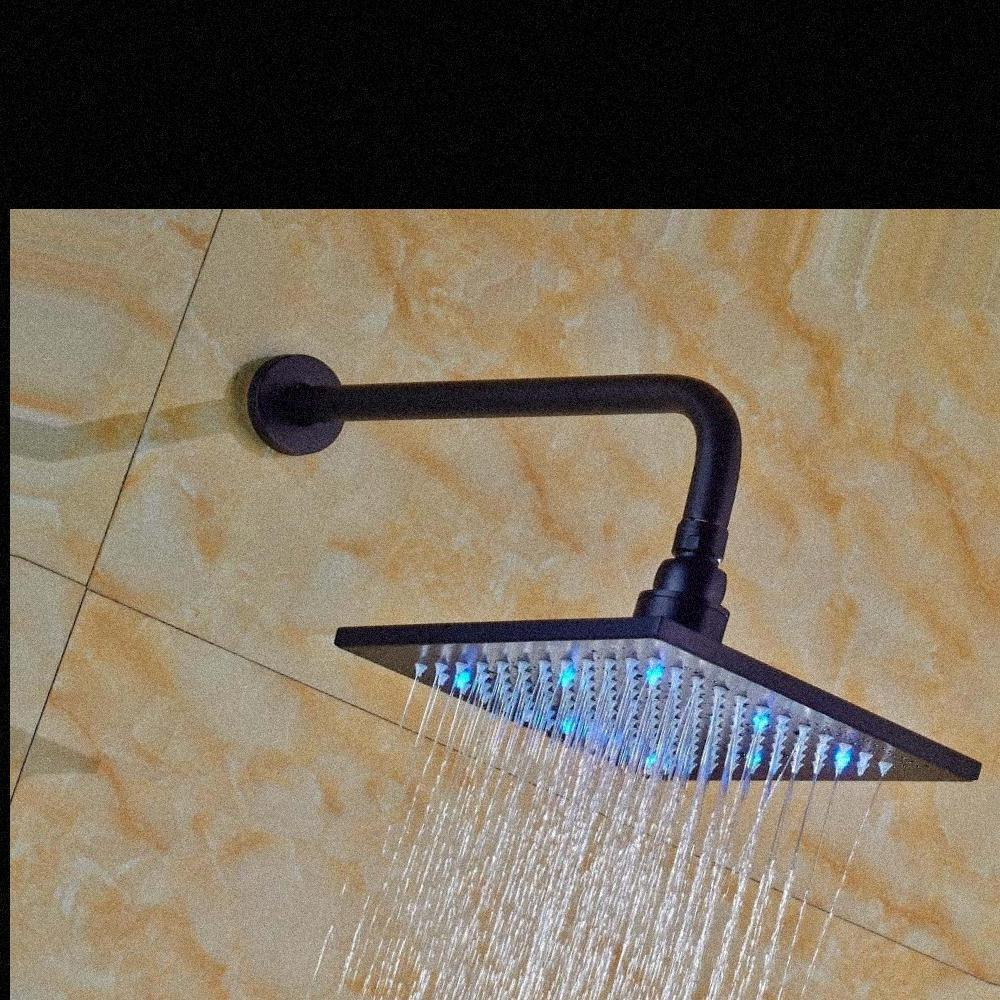Ducha: (10, 209, 1000, 1000)
